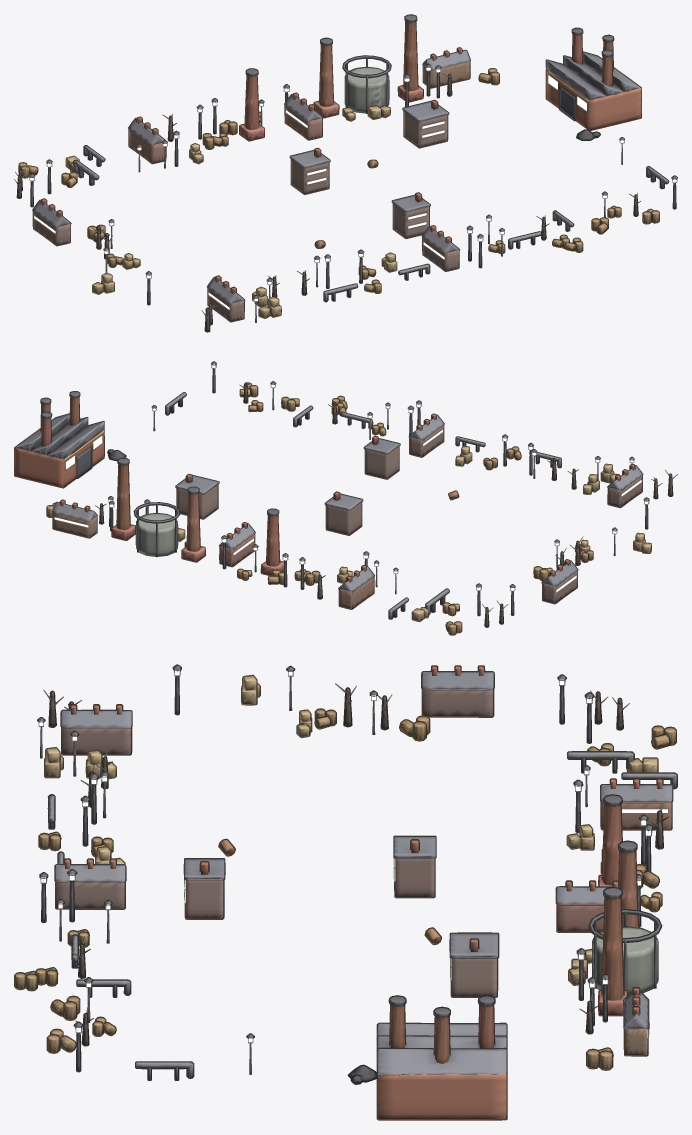
The model's file is smog_city.glb.
The picture shows the model from 3 angles, top to bottom: view 1: azimuth 30°, elevation 25°; view 2: azimuth 150°, elevation 25°; view 3: azimuth 270°, elevation 25°; orthographic projection. The views are drawn at different scales.
Visible parts, largest first — view 1: Baked_matte, Baked_matte_Outline, Baked_metal, Baked_metal_Outline, Baked_glow_ffe09f, Baked_glow_ffe4a9_Outline; view 2: Baked_matte, Baked_matte_Outline, Baked_metal, Baked_metal_Outline, Baked_glow_ffe4a9_Outline; view 3: Baked_matte, Baked_matte_Outline, Baked_metal, Baked_metal_Outline, Baked_glow_ffe4a9, Baked_glow_ffe4a9_Outline.
Part boxes in pixels (<box>): Baked_matte: <box>14,21,659,331</box>; Baked_matte_Outline: <box>16,21,659,332</box>; Baked_metal: <box>29,15,676,322</box>; Baked_metal_Outline: <box>28,14,677,305</box>; Baked_glow_ffe09f: <box>34,110,444,309</box>; Baked_glow_ffe4a9_Outline: <box>29,65,677,301</box>; Baked_matte: <box>14,383,677,634</box>; Baked_matte_Outline: <box>14,382,673,635</box>; Baked_metal: <box>41,362,648,618</box>; Baked_metal_Outline: <box>40,361,649,619</box>; Baked_glow_ffe4a9_Outline: <box>108,362,649,591</box>; Baked_matte: <box>15,666,675,1119</box>; Baked_matte_Outline: <box>14,665,676,1120</box>; Baked_metal: <box>38,665,676,1079</box>; Baked_metal_Outline: <box>37,664,677,1080</box>; Baked_glow_ffe4a9: <box>39,669,650,1042</box>; Baked_glow_ffe4a9_Outline: <box>38,666,652,1043</box>.
Size of the model in its own units: 40.99 by 5.55 by 26.83.
